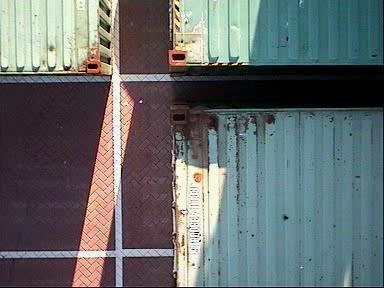groundmarker_2: (195, 215, 232, 277), (194, 44, 231, 105)
